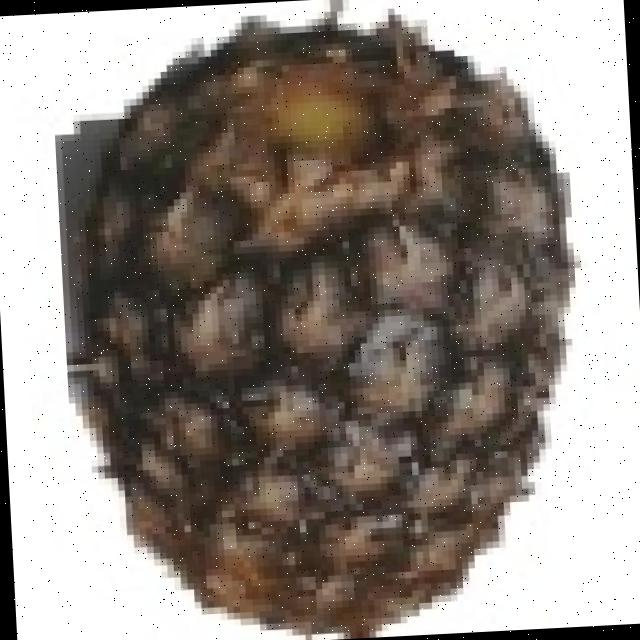pineapple: (74, 34, 581, 637)
